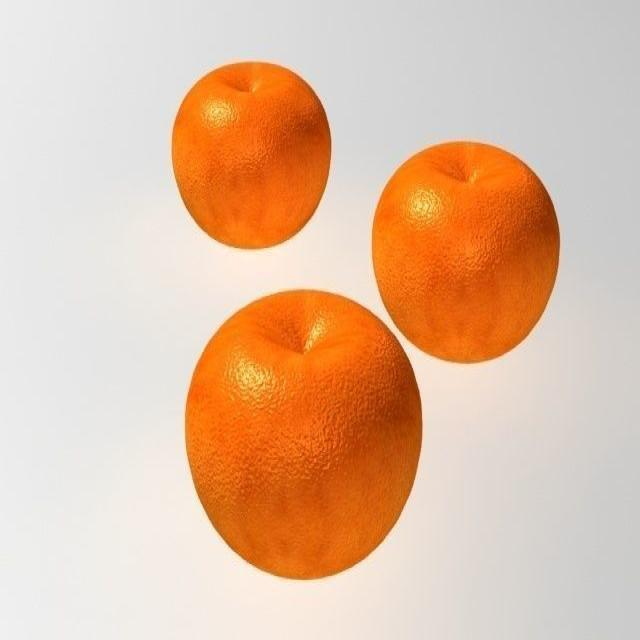Orange: (183, 287, 423, 580), (370, 138, 560, 364), (170, 58, 332, 249)
